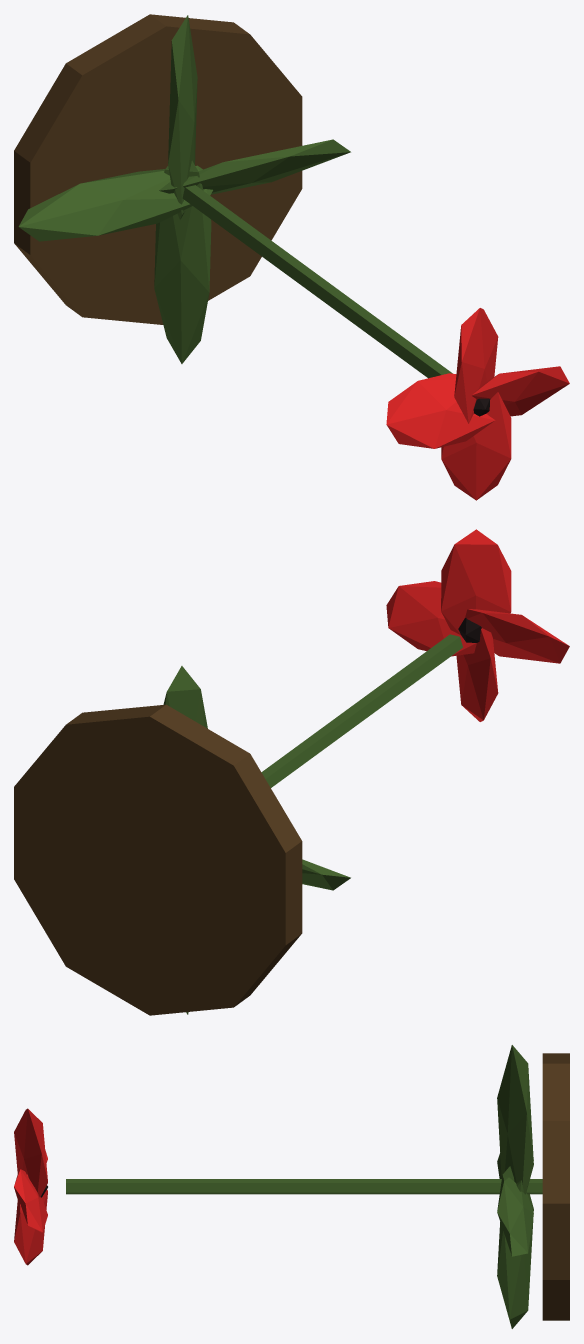
The model's file is 4_mature.obj.
The picture shows the model from 3 angles, top to bottom: view 1: azimuth 30°, elevation 25°; view 2: azimuth 150°, elevation 25°; view 3: azimuth 270°, elevation 25°; orthographic projection. The views are drawn at different scales.
Parts seen in each view (by area): view 1: poppy_4_mature; view 2: poppy_4_mature; view 3: poppy_4_mature.
Part boxes in pixels (x1,y1,x2,y2): poppy_4_mature: [14, 14, 569, 500]; poppy_4_mature: [14, 529, 569, 1015]; poppy_4_mature: [14, 1045, 569, 1328].
Bounding box in the file's own units: 0.2331 × 0.2331 × 0.4083.
